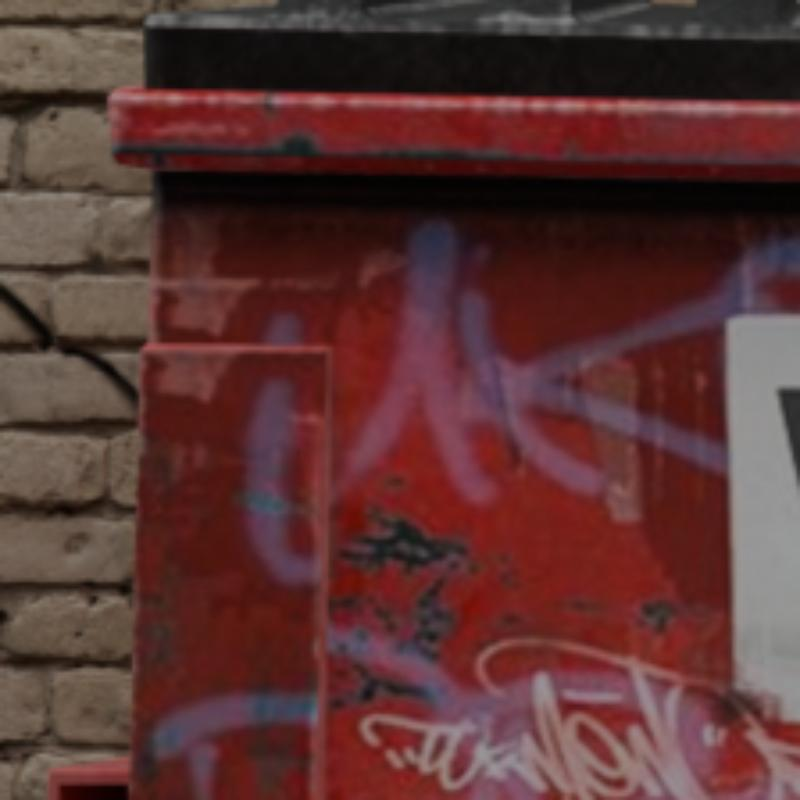pothole: (0, 282, 136, 418)
